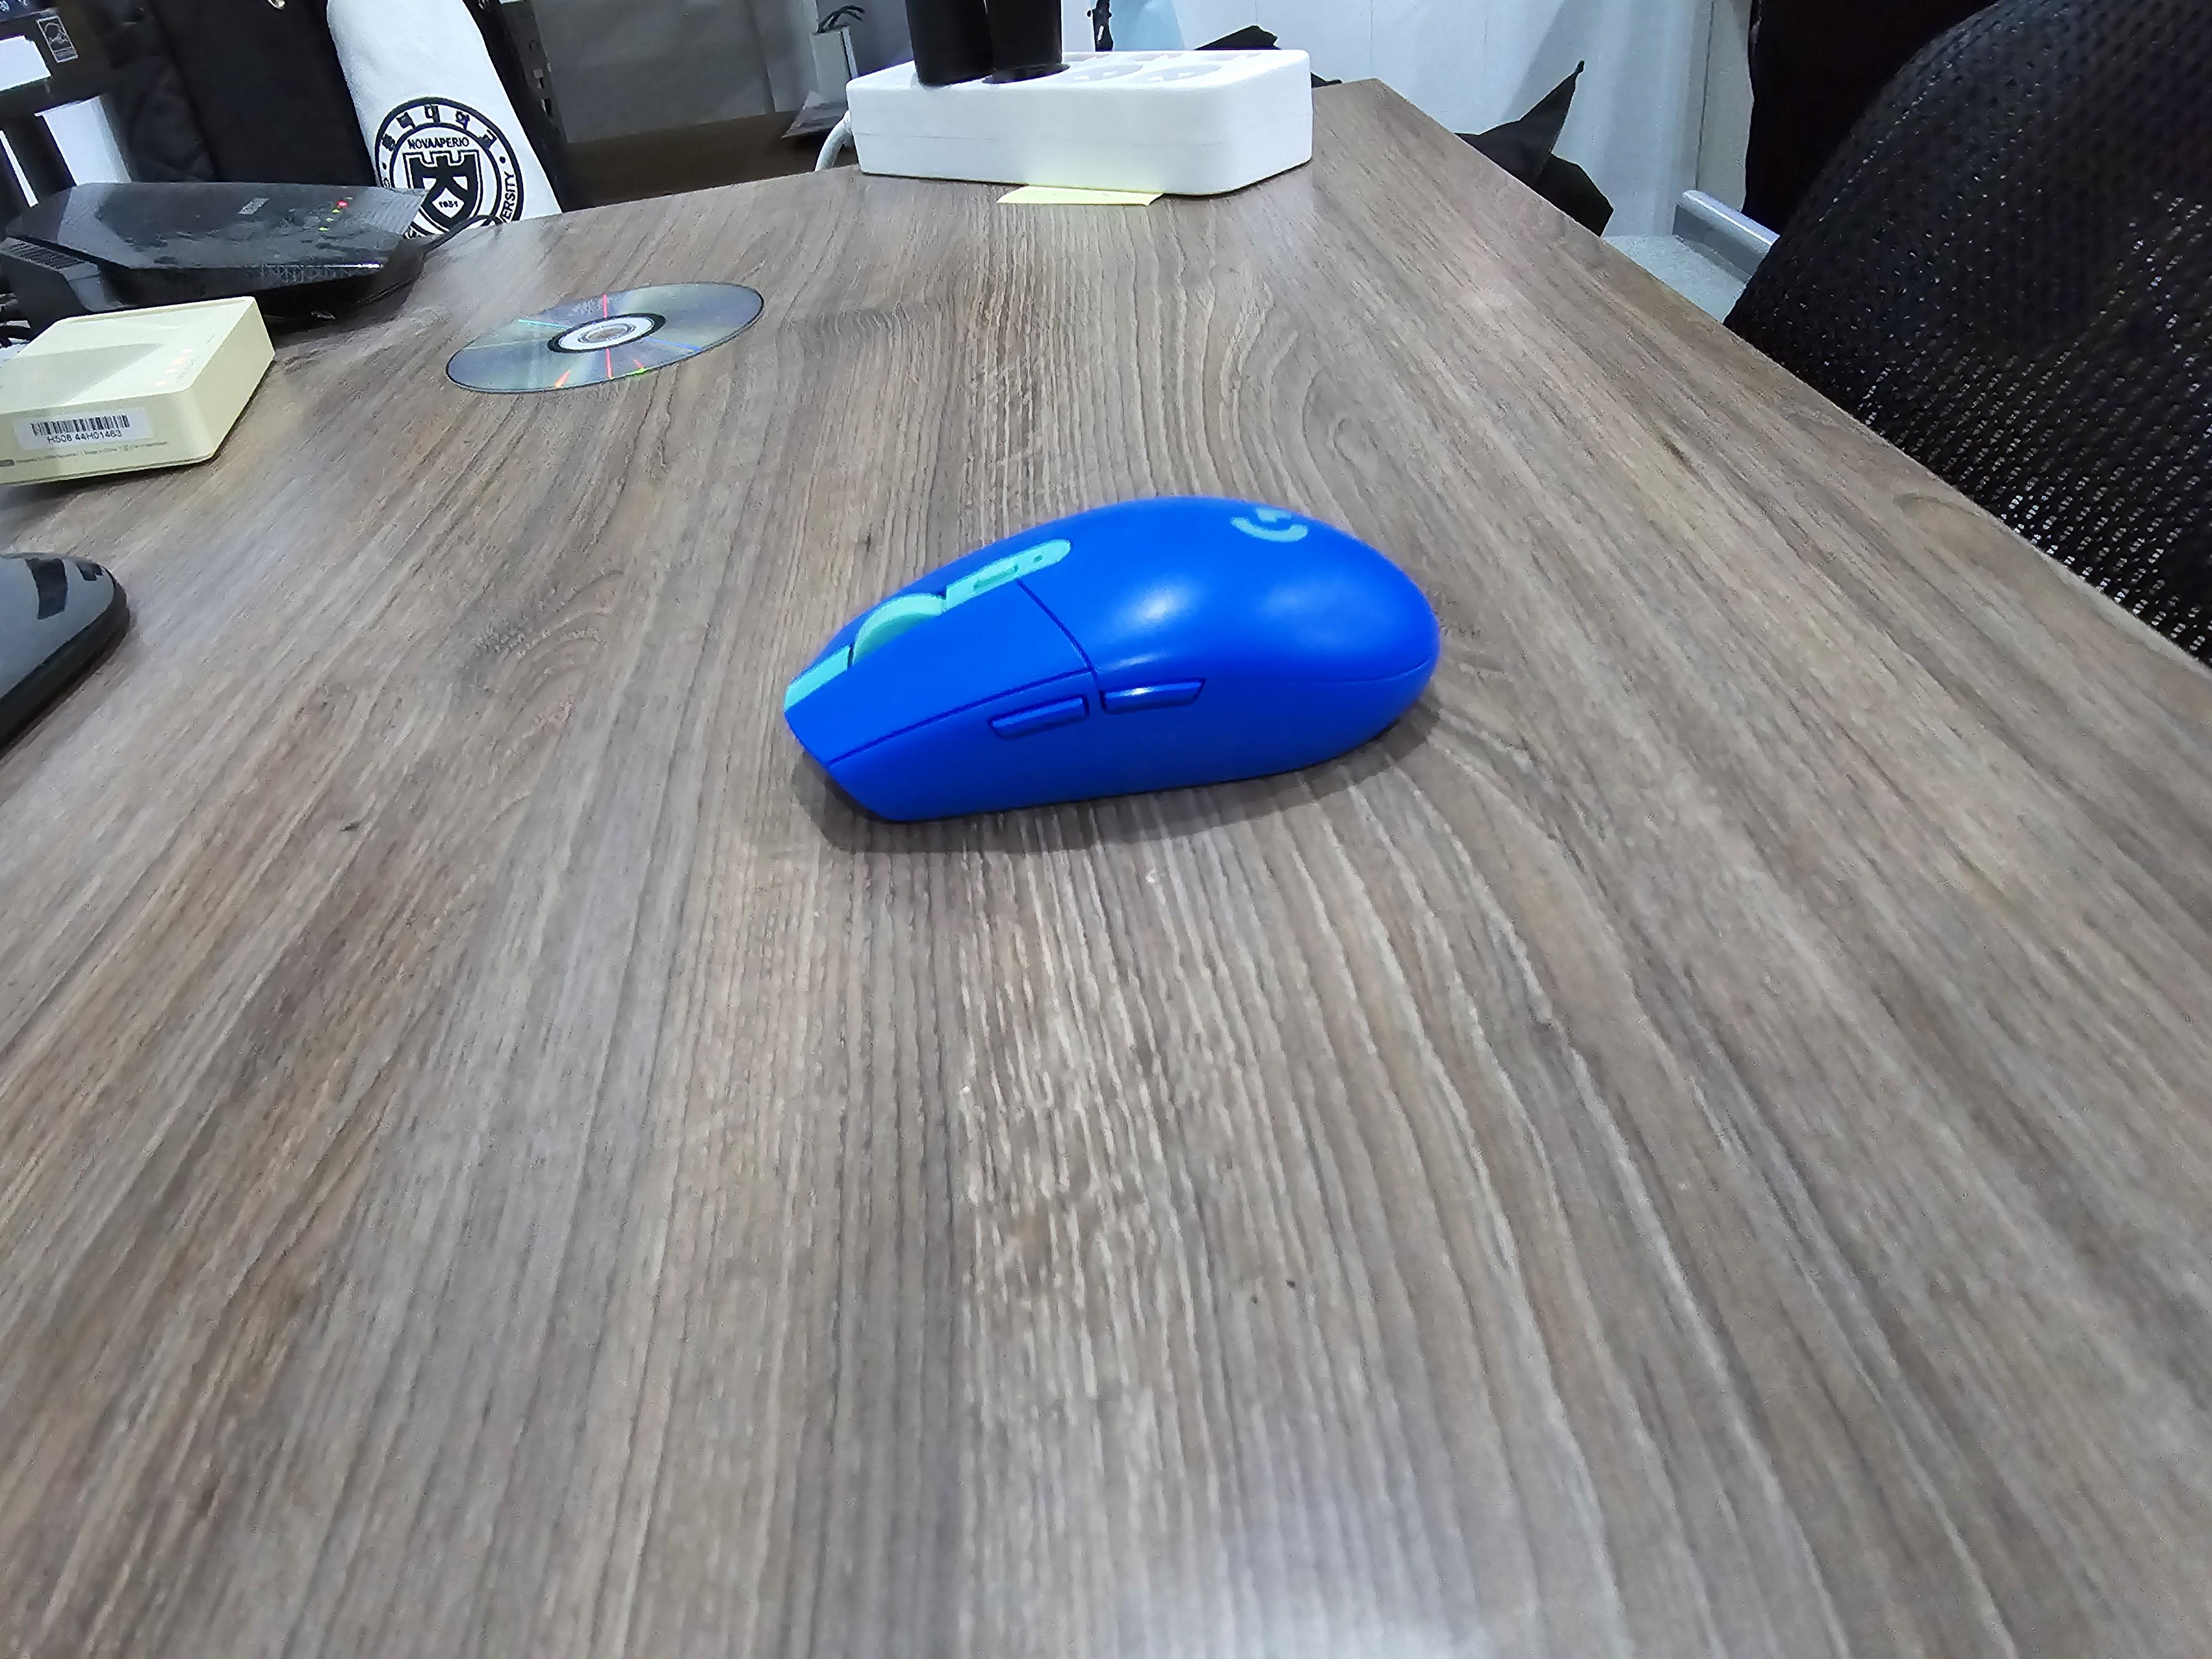mouse: (780, 491, 1442, 824)
